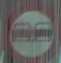No overtake: (3, 2, 55, 56)
